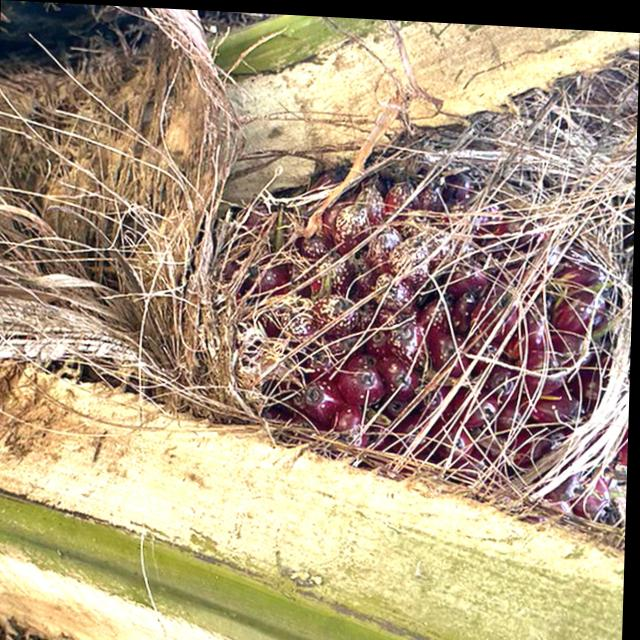ripe: (179, 79, 638, 571)
